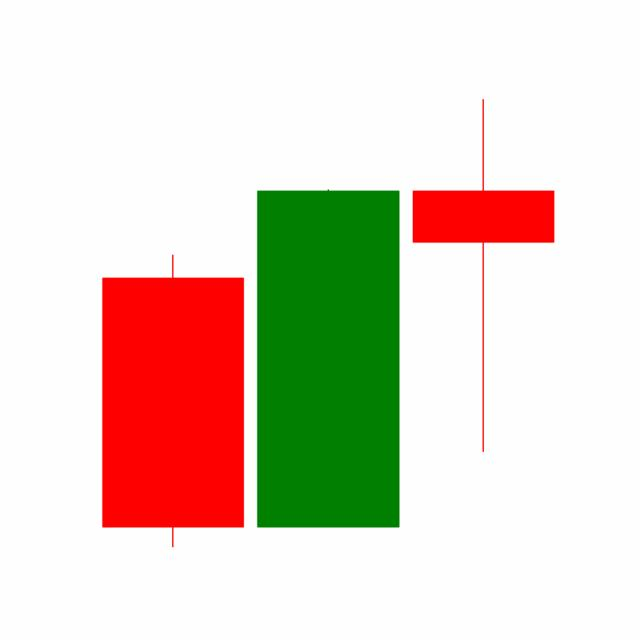Marubozu: (249, 186, 406, 531)
